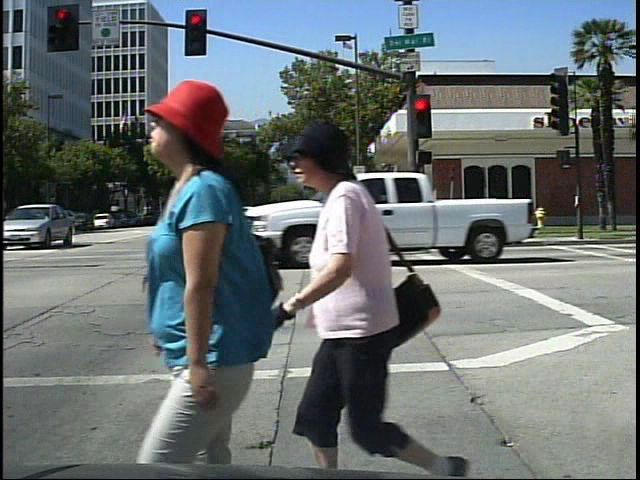person: (104, 67, 287, 470), (290, 114, 470, 478)
